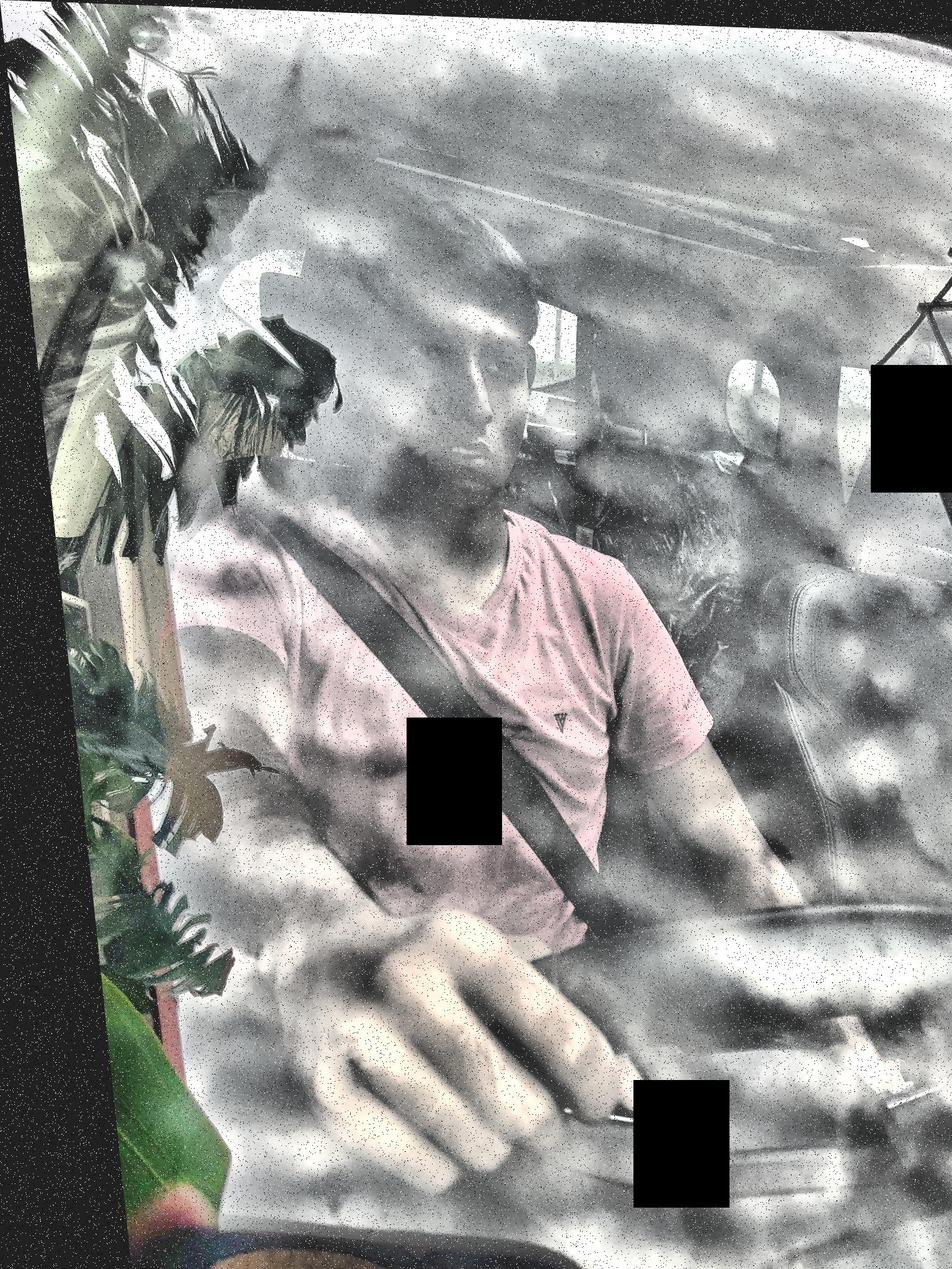seatbelt: (113, 368, 739, 1155)
